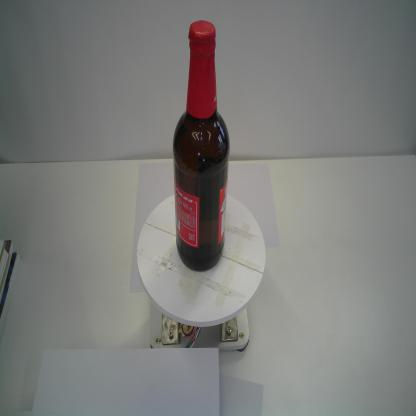Alcohol: (172, 19, 231, 273)
